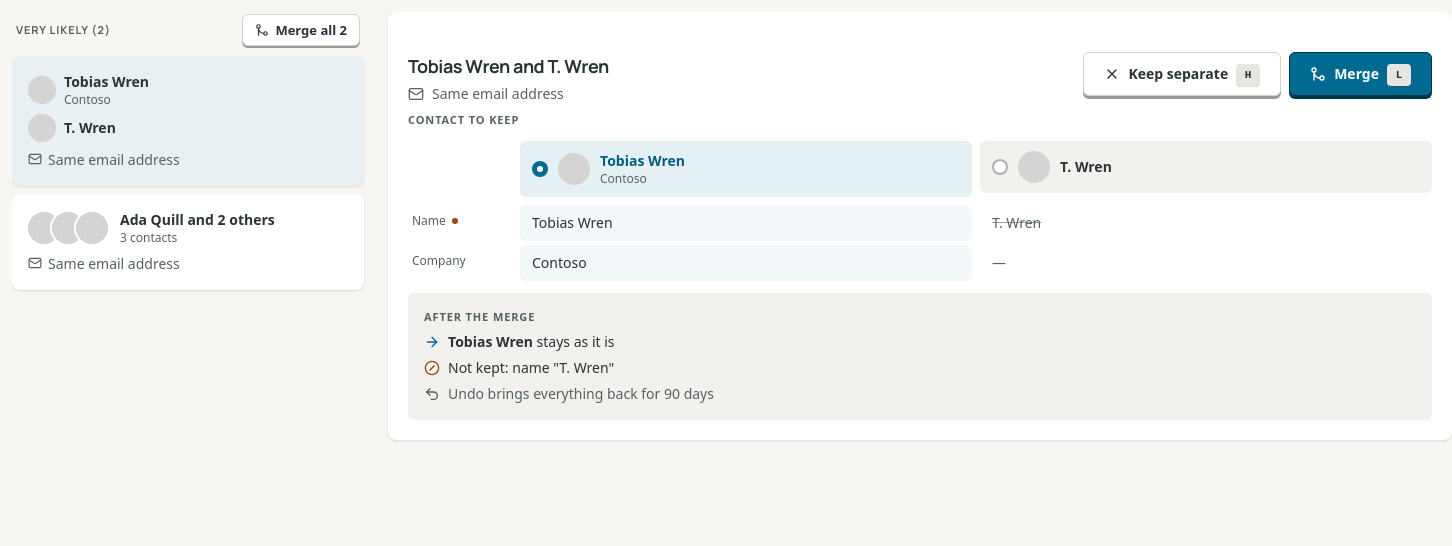
Test: Different person › keeps the open group and the contact chosen in it
Click the button "Ada Quill and 2 others 3 contacts Same email address" at (44,228), box [12,194,364,290]
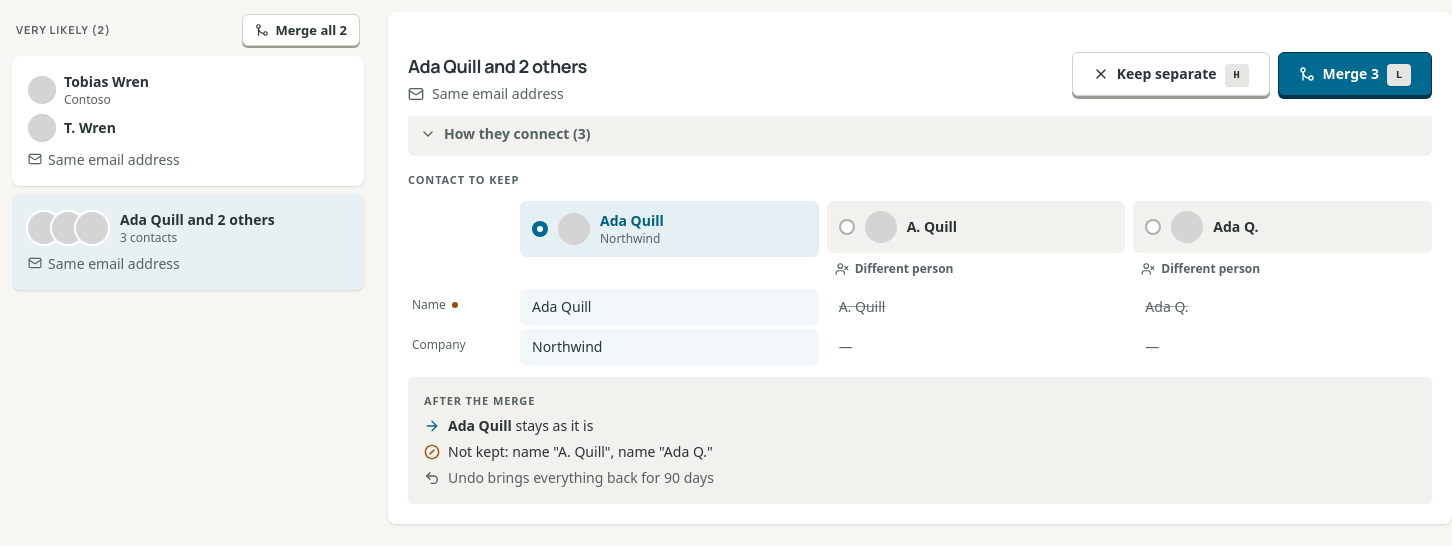
Click the radio button labelled "A. Quill" at (881,226), box [827,200,1125,252]
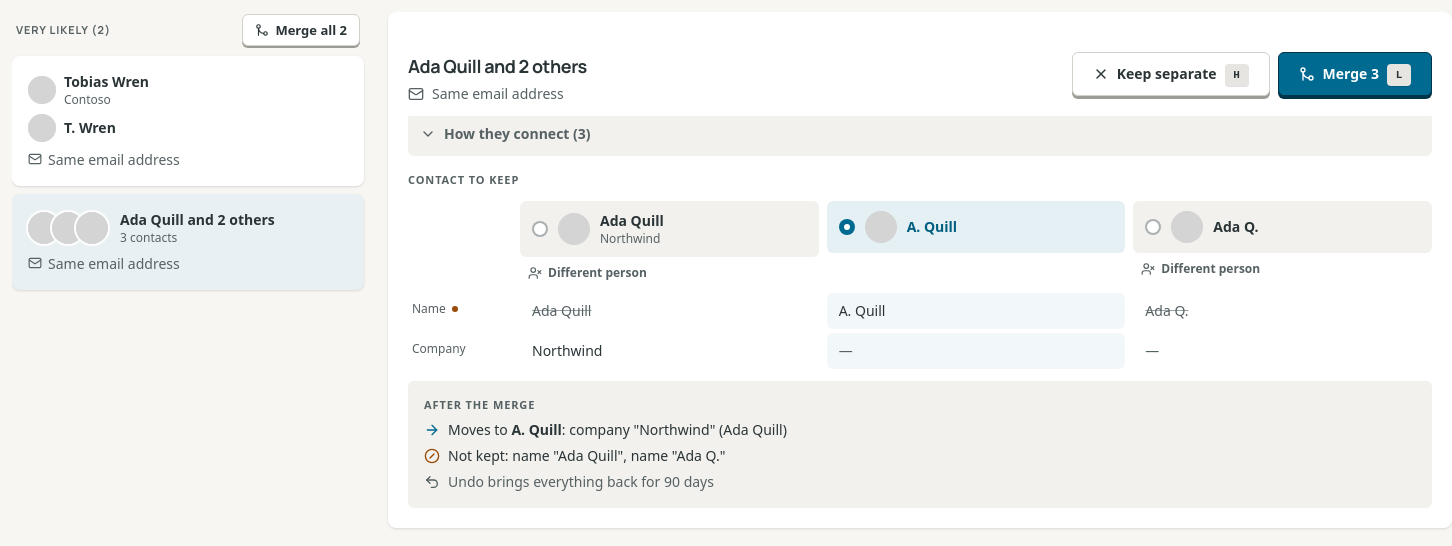
Click the button with aria-label "Ada Q. is a different person" at (1201,268), box [1133,256,1268,280]
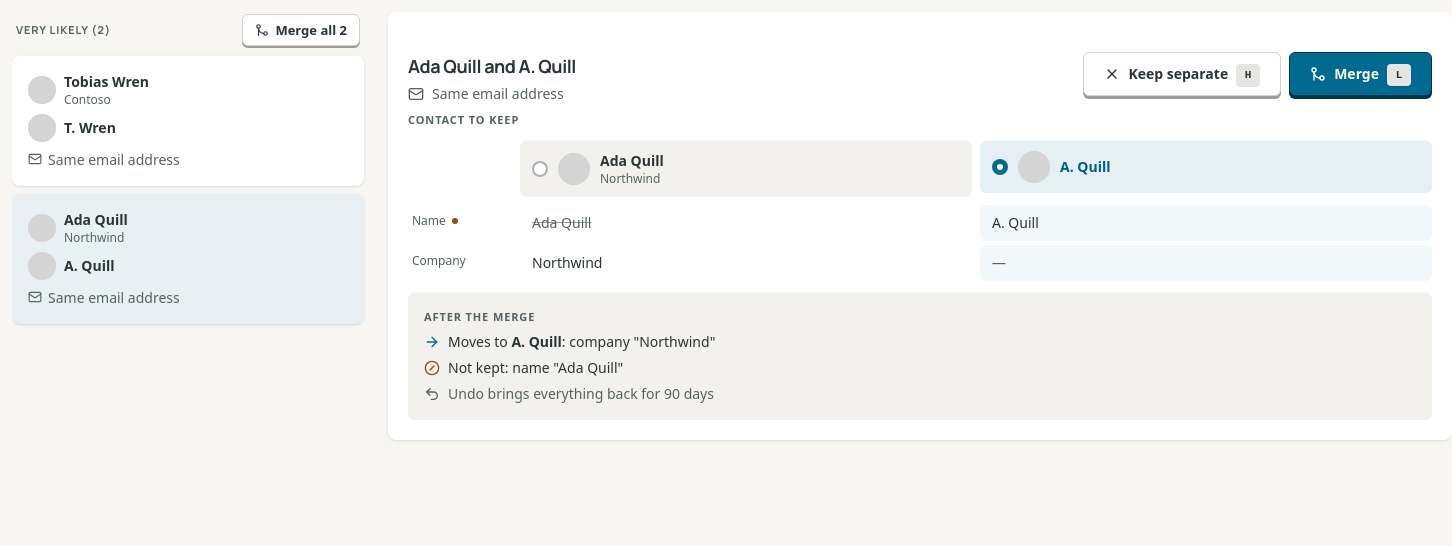
Expected: the radio button labelled "A. Quill" is shown, [980,140,1432,192]
Expected: the heading "Ada Quill and A. Quill" is shown, [408,54,576,78]
